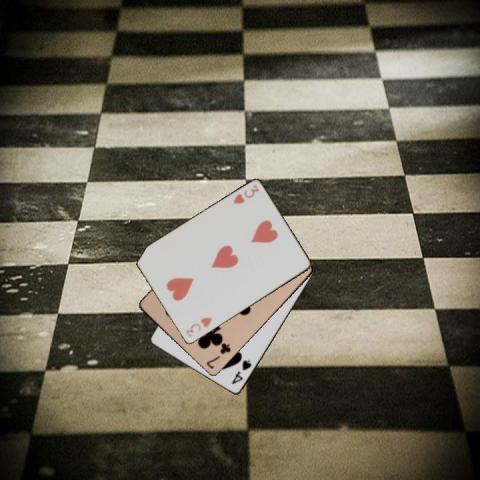3h: (183, 314, 213, 338), (230, 182, 260, 205)
4s: (228, 357, 253, 386)
7c: (203, 340, 232, 370)
